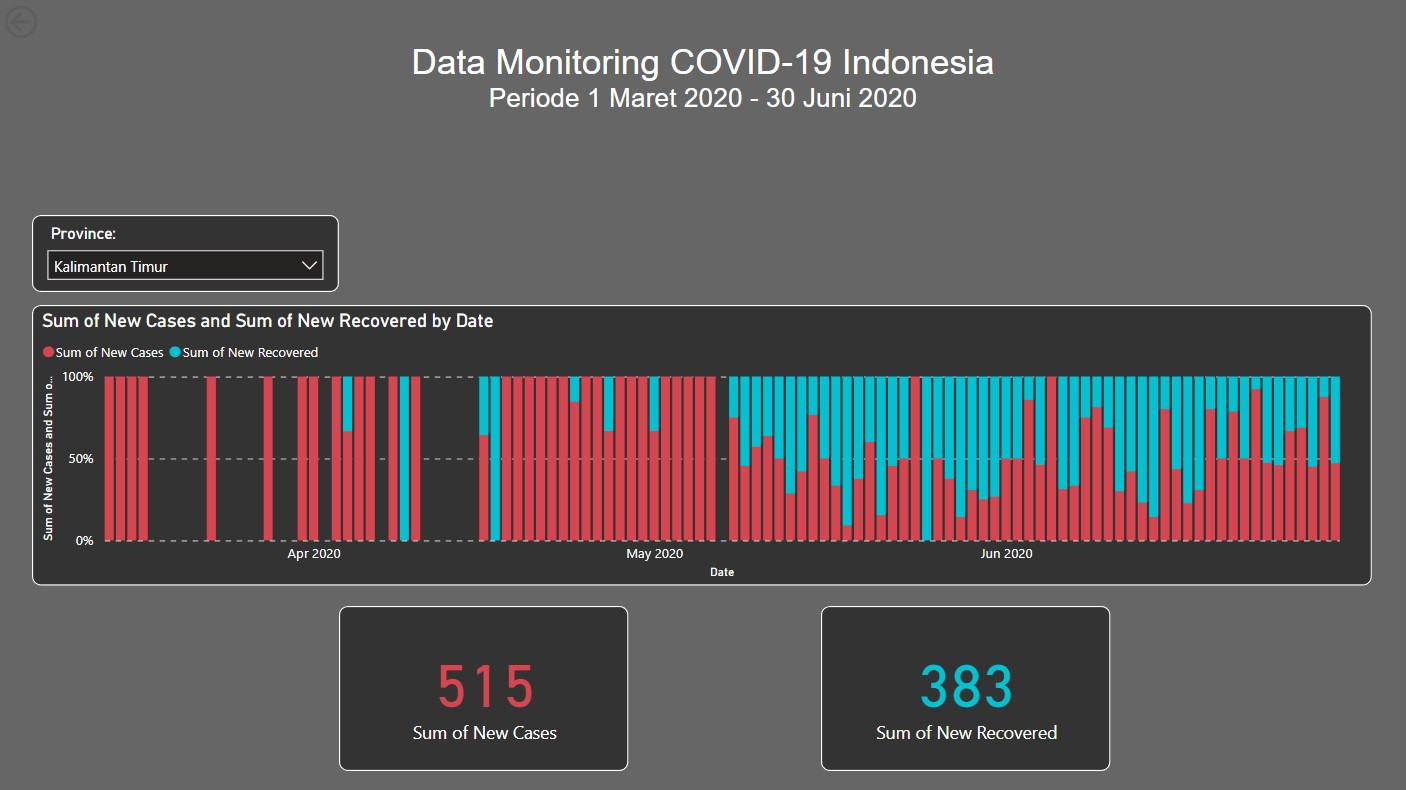

This screenshot's page, from the dashboard's own definition file:
{"tool":"powerbi","page":{"name":"Bar Chart","canvas":[1280,720],"ordinal":0},"visuals":[{"type":"hundredPercentStackedColumnChart","fields":{"Category":["covid_19_indonesia_time_series_all.Date"],"Y":["Sum(covid_19_indonesia_time_series_all.New Cases)","Sum(covid_19_indonesia_time_series_all.New Recovered)"]},"box":[30,277.5,1217.5,255],"z":0},{"type":"textbox","box":[270,33.8,740,80],"z":1000},{"type":"card","fields":{"Values":["Sum(covid_19_indonesia_time_series_all.New Cases)"]},"box":[308.8,551.2,262.5,150],"z":2000},{"type":"card","fields":{"Values":["Sum(covid_19_indonesia_time_series_all.New Recovered)"]},"box":[747.5,551.2,262.5,150],"z":3000},{"type":"slicer","fields":{"Values":["covid_19_indonesia_time_series_all.Province"]},"box":[30,195,278.8,70],"z":4000},{"type":"actionButton","box":[0,0,100,40],"z":5000}]}

Visuals, with their boxes in screenshot pixels (x1, y1, x2, y2), scaled from the page's 1280x720 canvas onto the 1406x790 screenshot:
hundredPercentStackedColumnChart - covid_19_indonesia_time_series_all.Date x Sum(covid_19_indonesia_time_series_all.New Cases): 33, 304, 1370, 584
textbox: 297, 37, 1109, 125
card - Sum(covid_19_indonesia_time_series_all.New Cases): 339, 605, 628, 769
card - Sum(covid_19_indonesia_time_series_all.New Recovered): 821, 605, 1109, 769
slicer - covid_19_indonesia_time_series_all.Province: 33, 214, 339, 291
actionButton: 0, 0, 110, 44
